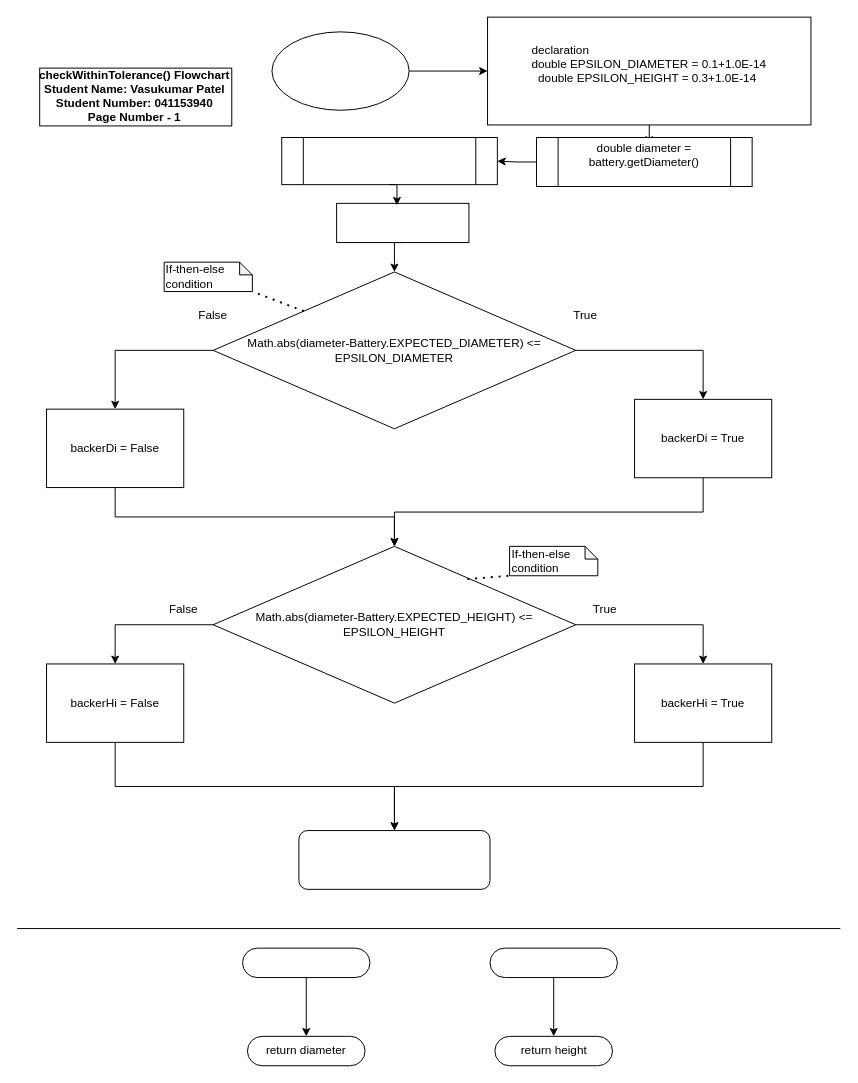
The diagram is 858 pixels wide and 1083 high, and some of its shapes have lost their labels. The shapes that lost their labels are listed below. From the top down, each one's centre as x and y in pixels, then its label:
the point at 340,70: checkWithinTolerance
the point at 389,161: double height = battery.getHeight()
the point at 402,222: declaration double backerDi double backerHi
the point at 394,859: return backerDi && backerHi
the point at 306,962: getDiameter()
the point at 553,962: getHeight()
